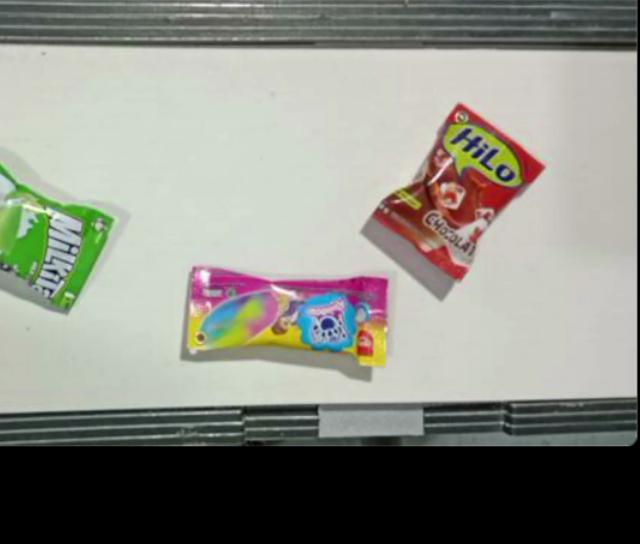Plastik: (372, 104, 547, 283), (185, 266, 390, 367), (1, 160, 115, 315), (67, 133, 67, 133)
